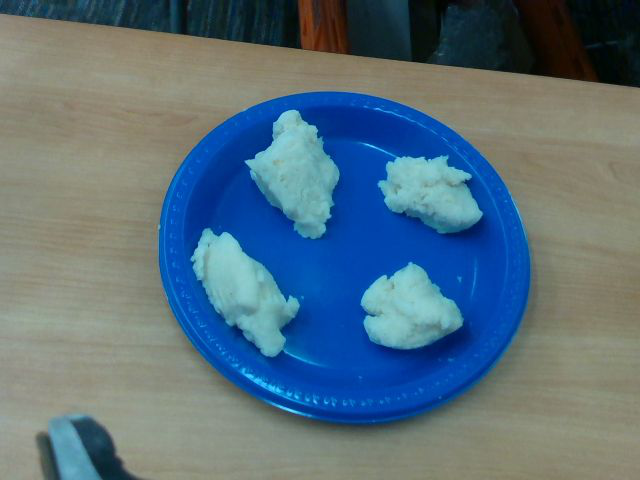mashed_potato: (190, 228, 300, 357), (244, 110, 339, 239), (361, 262, 464, 350), (377, 155, 483, 234)
